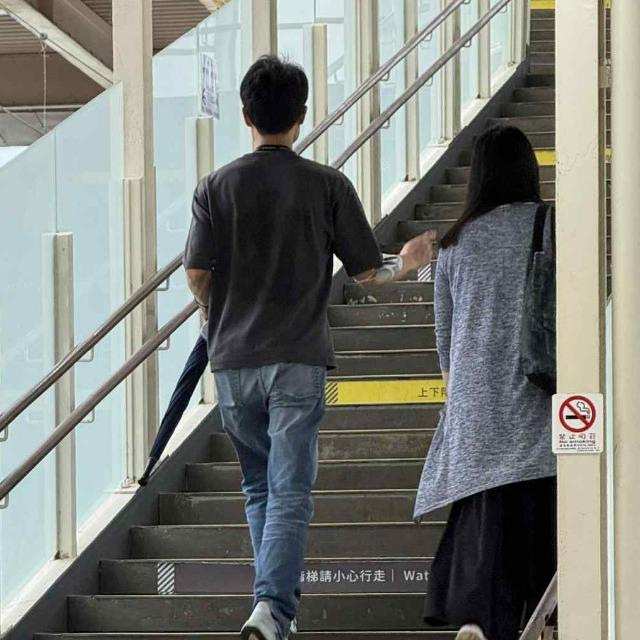NoHelmet: (234, 51, 311, 141)
NoVest: (188, 157, 351, 368)
